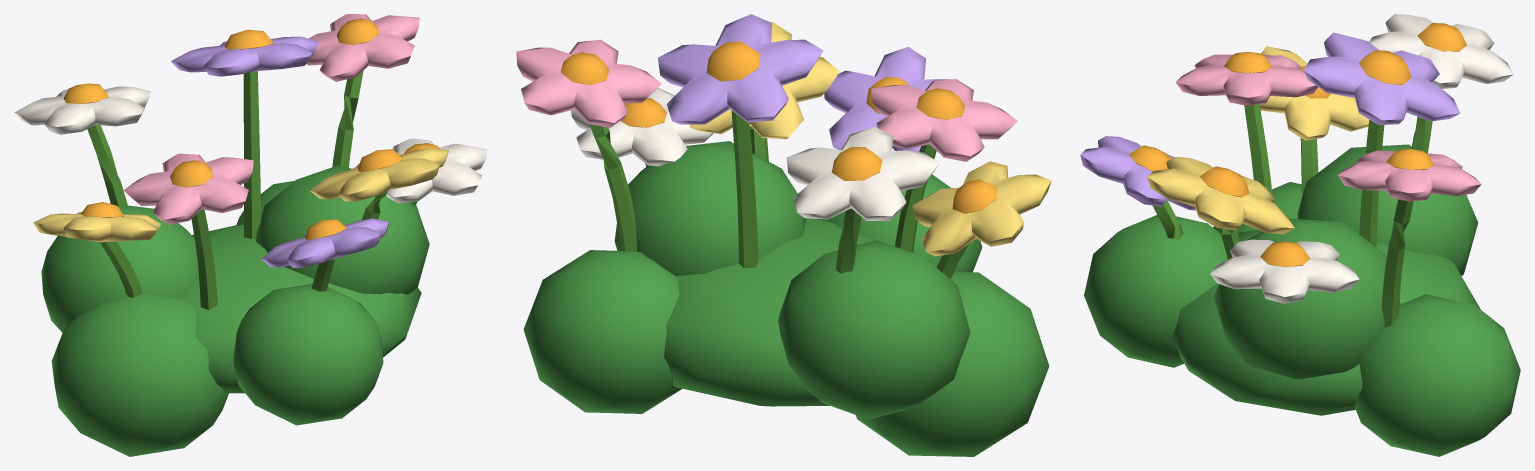
File: prop_flowers.glb
3 views of the same model, side by side, from view 1: azimuth 30°, elevation 25°; view 2: azimuth 150°, elevation 25°; view 3: azimuth 270°, elevation 25° (orthographic). The views are drawn at different scales.
Parts seen in each view (by area): view 1: prop_flowers; view 2: prop_flowers; view 3: prop_flowers.
Boxes of the visible parts, x1,y1,x2,y2 form: prop_flowers: (14, 14, 487, 456); prop_flowers: (516, 14, 1051, 456); prop_flowers: (1080, 14, 1520, 456).
Size of the model in its own units: 0.7912 by 0.6283 by 0.661.
